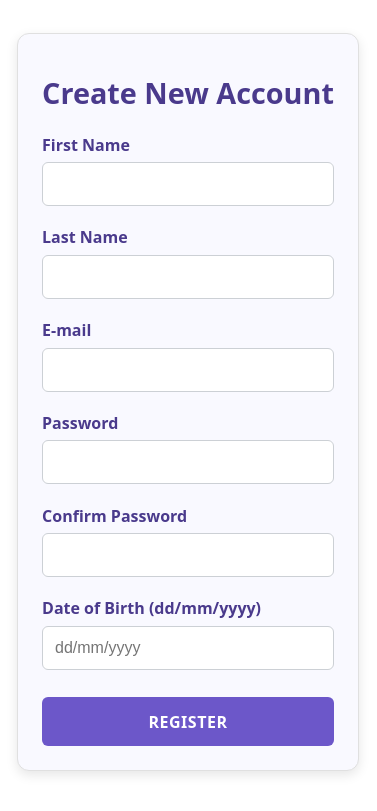
Test: Form Tests › shows date format error
Type "1-1-2000" into the field labelled "Date of Birth (dd/mm/yyyy)" at (188, 648), box x1=42 y1=626 x2=334 y2=670
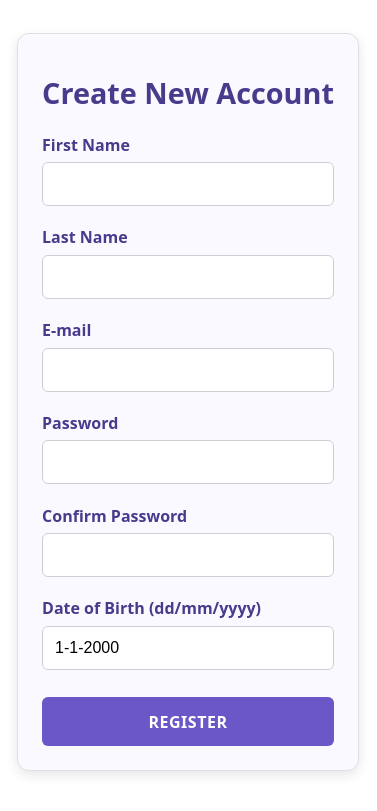
Click the button "REGISTER" at (188, 722), box x1=42 y1=697 x2=334 y2=746
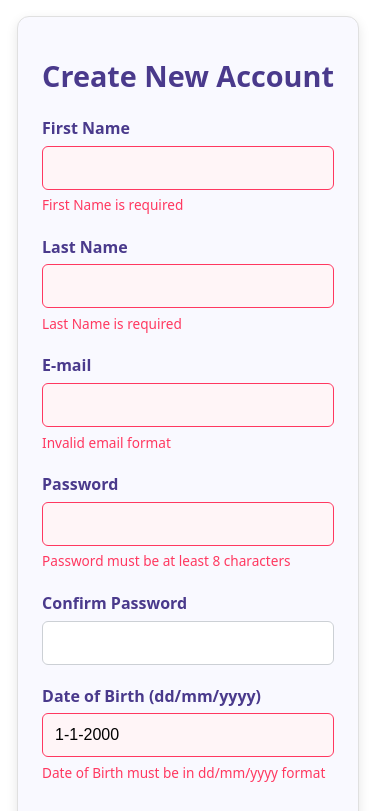
Now the text "Date of Birth must be in dd/mm/yyyy format" is shown, box x1=42 y1=763 x2=334 y2=783
